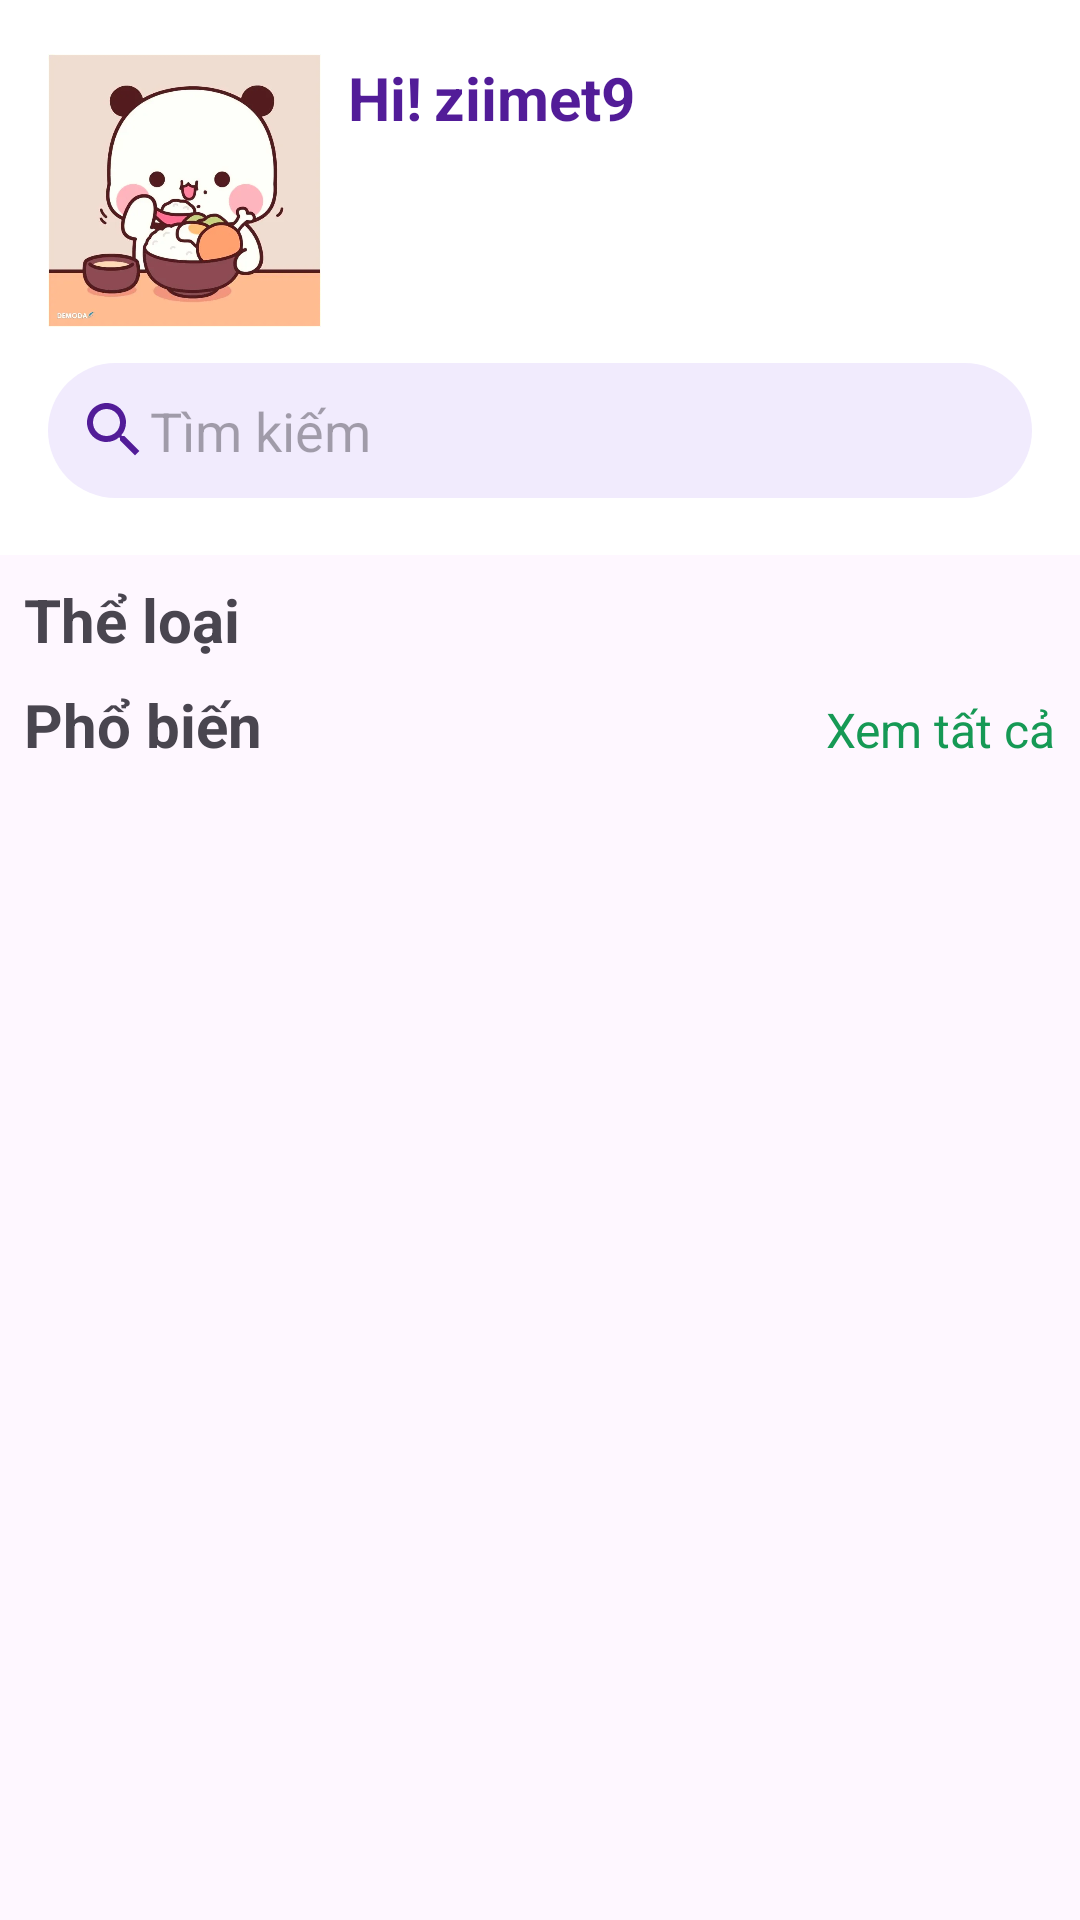

Screen size 1080w x 1920h. Icon name, then its box in pixels as box=[x1, y1, x2, y2]:
avt: box=[49, 55, 321, 326]
